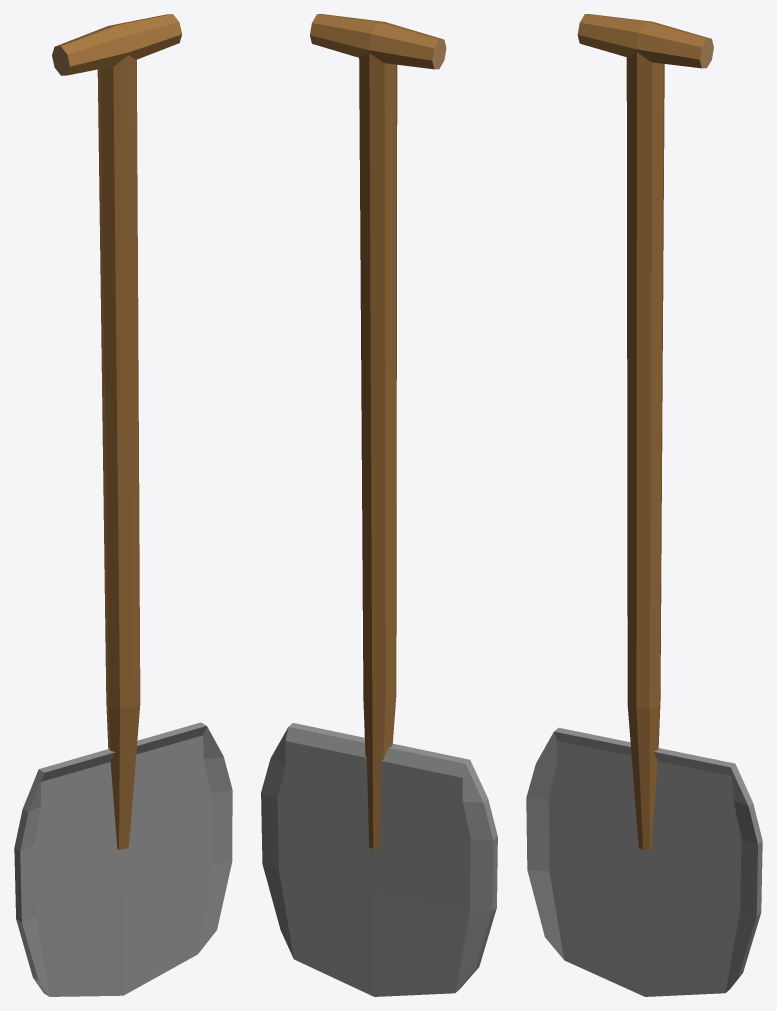
File: Shovel_2.fbx
The picture shows the model from 3 angles, left to right: view 1: azimuth 30°, elevation 25°; view 2: azimuth 150°, elevation 25°; view 3: azimuth 330°, elevation 25°; orthographic projection.
Visible parts, largest first — view 1: Shovel_2; view 2: Shovel_2; view 3: Shovel_2.
Boxes of the visible parts, left/top/right/bottom form: Shovel_2: left=14, top=14, right=232, bottom=996; Shovel_2: left=261, top=14, right=497, bottom=996; Shovel_2: left=526, top=14, right=762, bottom=996.
Bounding box in the file's own units: 34.9 × 6.37 × 145.
